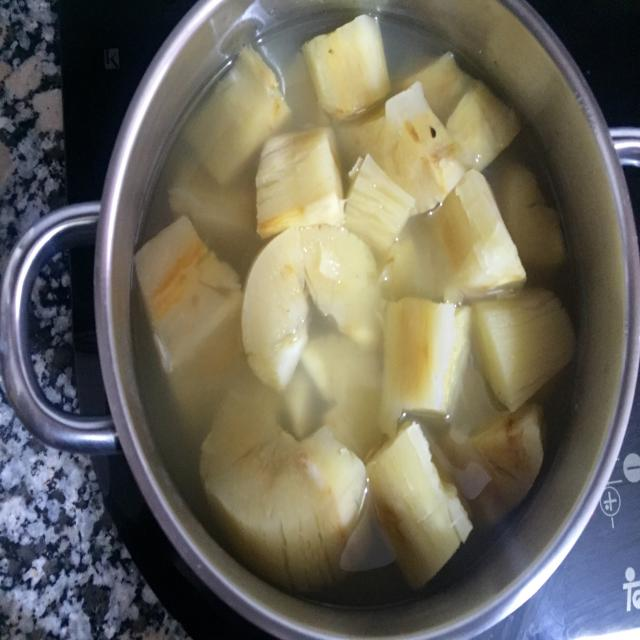yuca: (238, 213, 385, 391), (375, 281, 488, 442), (296, 9, 406, 132)
